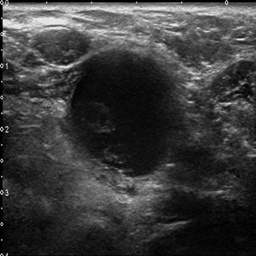mass: (67, 48, 170, 180)
